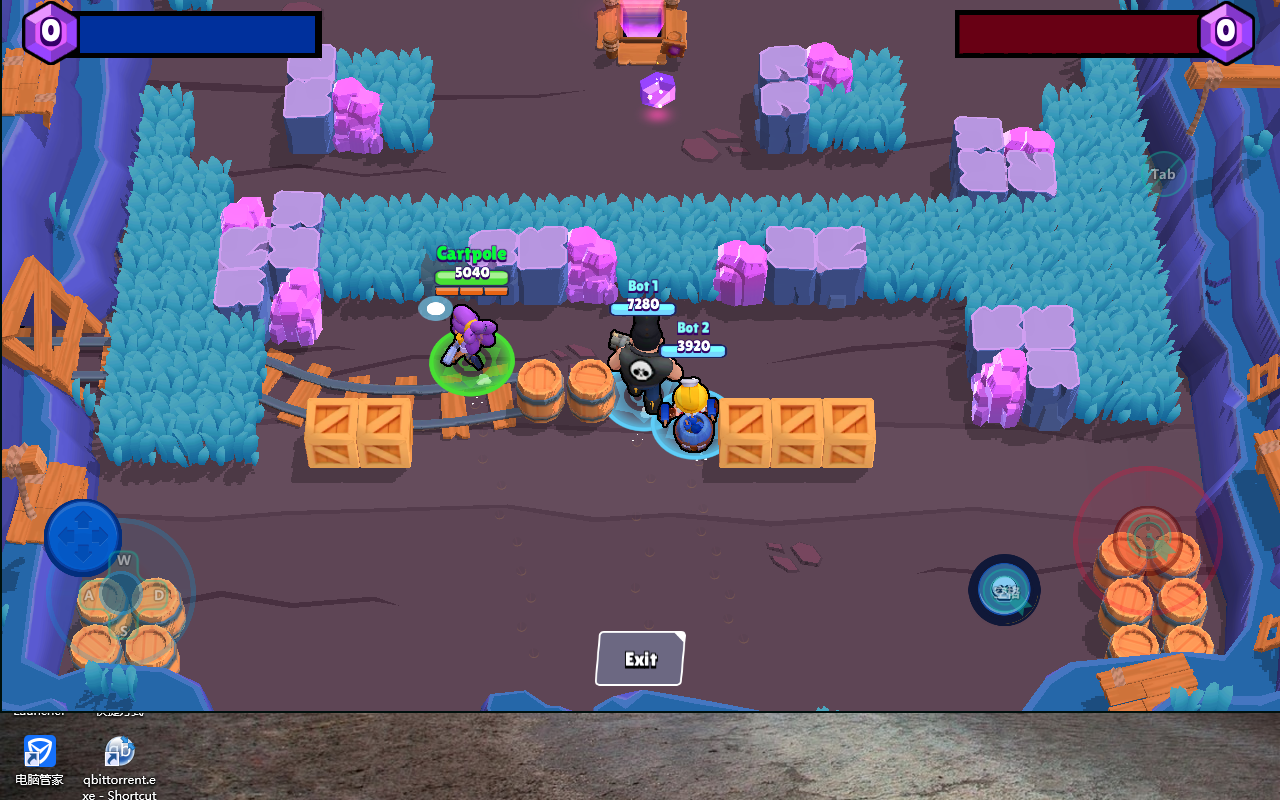current_player: (428, 327, 517, 398)
